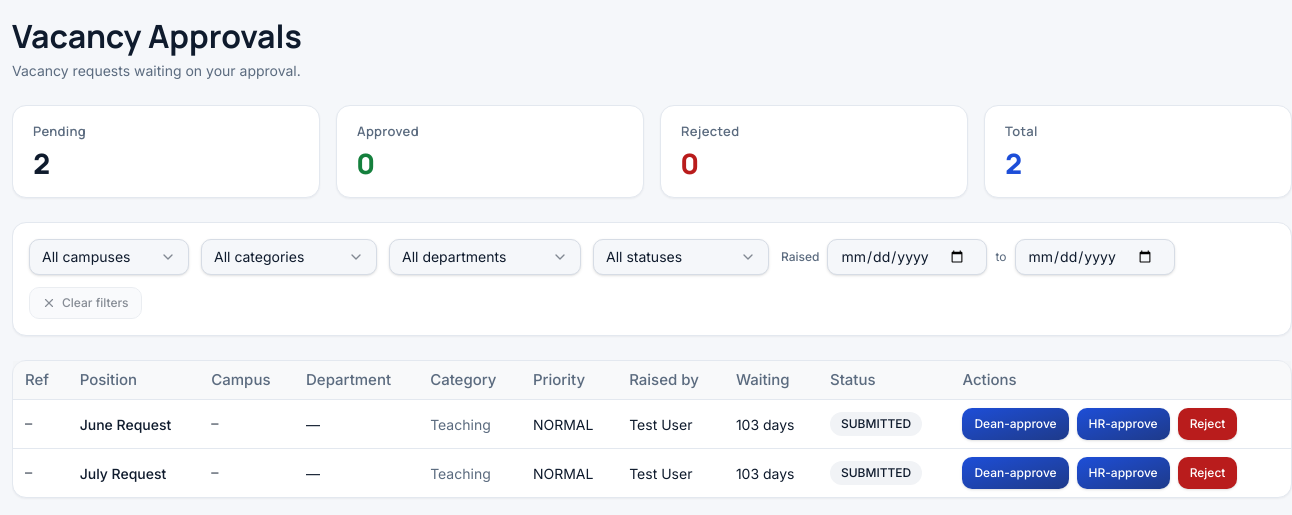
Test case: VacancyApprovalsPage › narrows the queue by the date the request was raised
Check: the link "June Request" is shown, box [80, 414, 171, 434]
Type "2026-07-01" into the date field named "Raised from" at coordinates (908, 256), box [828, 238, 988, 274]
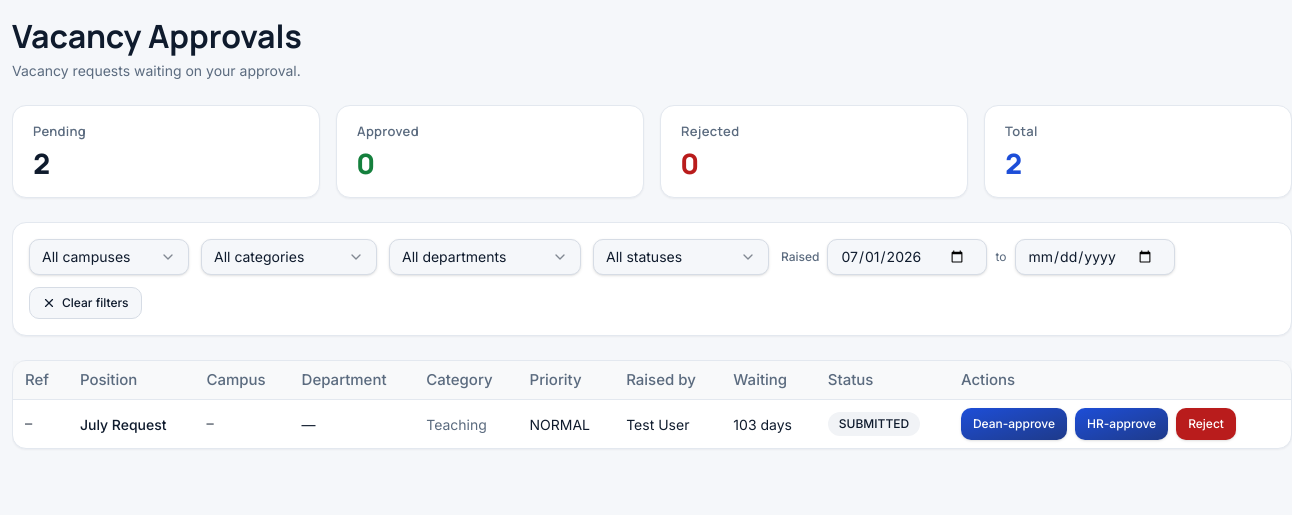
Check: the link "July Request" is shown, box [80, 414, 166, 434]
Check: the link "June Request" is gone
